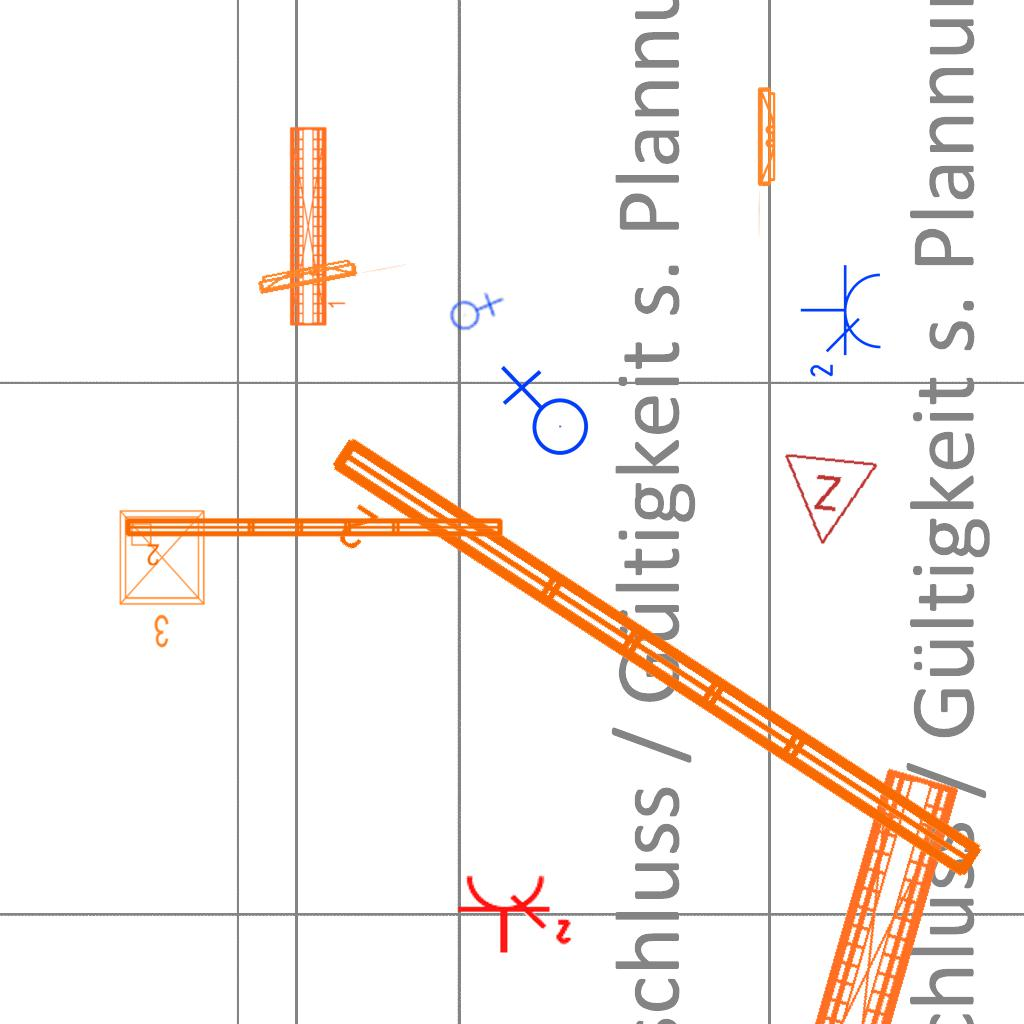Ambulanz_Pendelleuchte_LED: (288, 421, 1000, 937), (121, 512, 508, 568)
Buero_Pendelleuchten_LED: (767, 757, 1006, 1024), (285, 123, 350, 329)
Einbaudownlights_LED_Konferenzraeume: (112, 503, 216, 653)
Elektroanschluss_allgemein_230V_Geraeteanschlussdose_230V: (496, 365, 590, 464), (442, 278, 505, 341)
Schukosteckdose_mehrfach: (453, 871, 574, 959), (799, 263, 887, 384)
Sicherheitsleuchte_Wandeinbau: (251, 243, 412, 298), (755, 82, 780, 241)
Zimmersignalleuchte: (774, 446, 882, 556)
